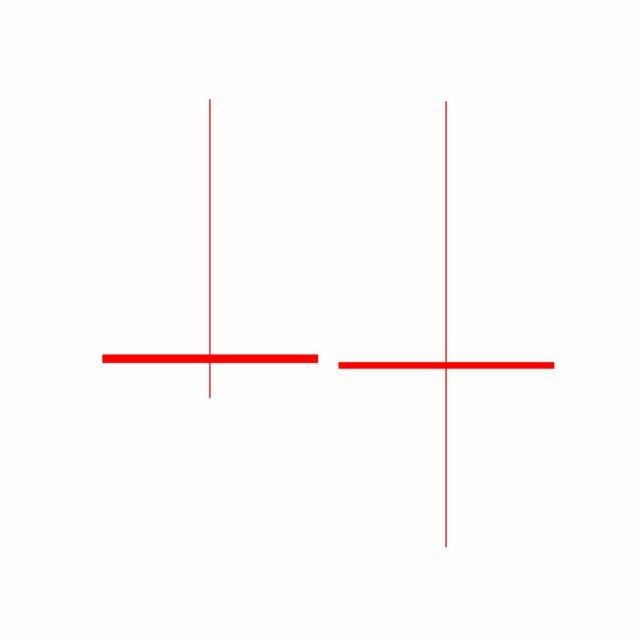Spinning Top: (328, 96, 566, 553)
